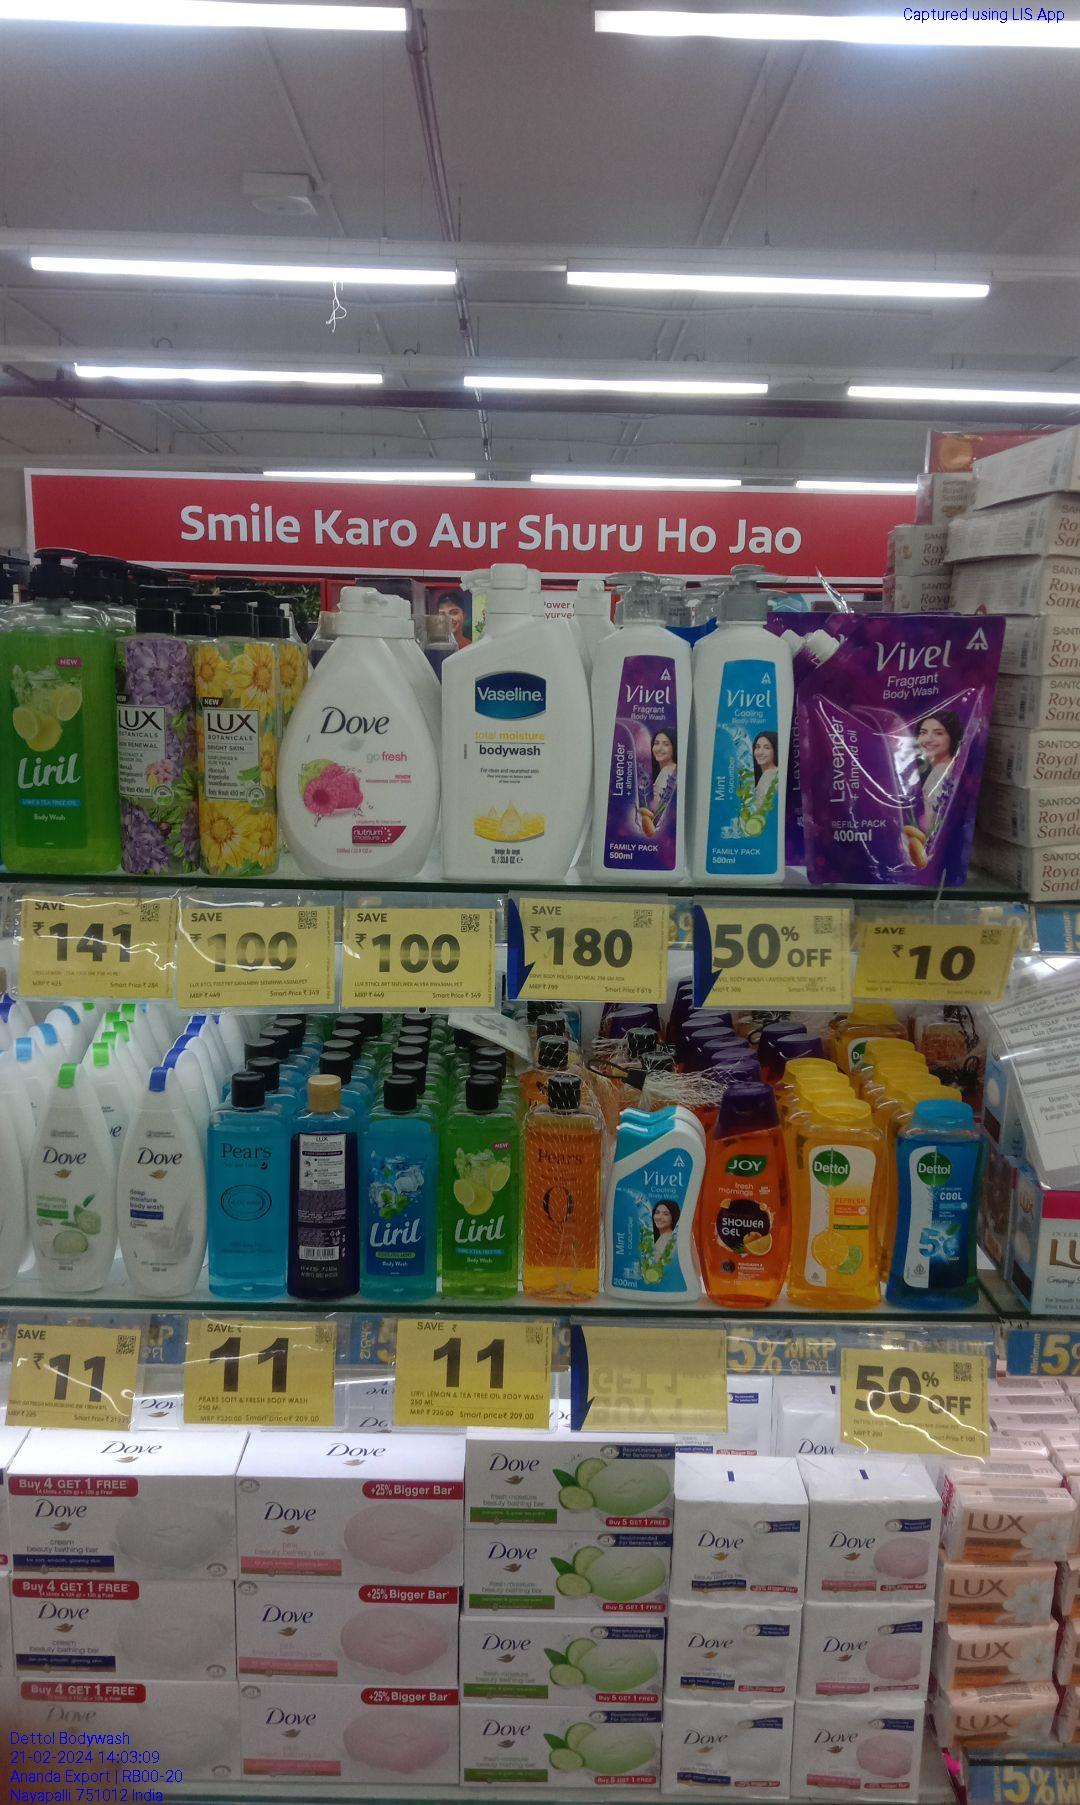Dettol_Bodywash_Cool: (883, 1098, 986, 1310)
Dettol_Bodywash_Refresh: (792, 1095, 886, 1307)
Dove_Deep_Moisture_Body_Wash_250ML: (116, 1063, 204, 1296)
Dove_Refreshing_Body_Wash_250ML: (27, 1061, 116, 1293)
Joy_Shower_Gel_Mandarin_and_Lemongrass_250ML: (703, 1082, 793, 1309)
Liril_Cooling_Mint_Body_Wash_250ML: (356, 1075, 438, 1301)
Liril_Lime_and_Tea_Tree_Oil_Body_Wash_250ML: (437, 1073, 521, 1302)
Pears_Pure_Glycerin_and_Mint_Extracts_Body_Wash_250ML: (206, 1070, 292, 1300)
